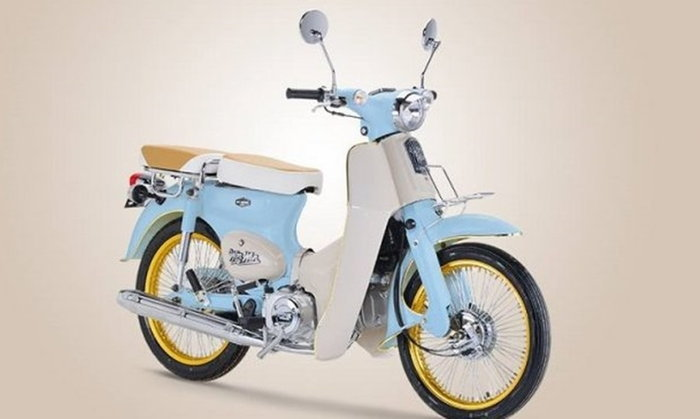motorcycle: (119, 10, 551, 419)
